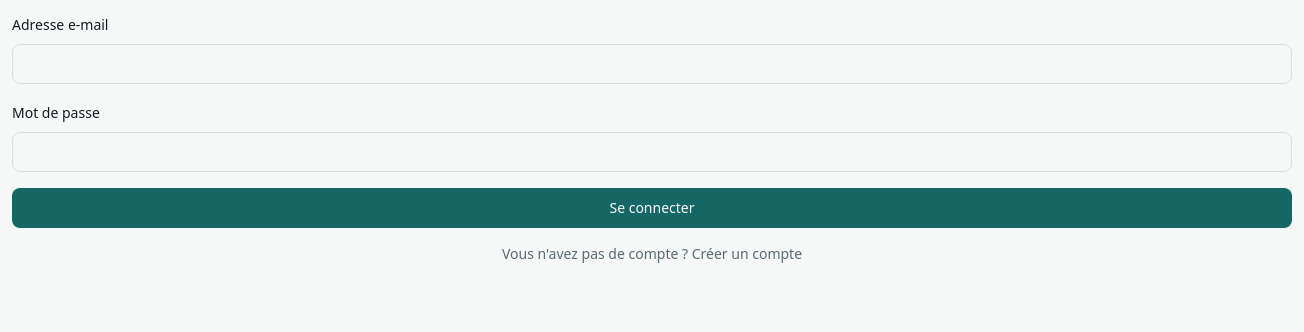
Test: LoginForm › shows a server error message on invalid credentials
The image size is (1304, 332).
Type "test@example.com" into the field labelled "Adresse e-mail".
click(652, 64); type("test@example.com")  # box left=12, top=44, right=1292, bottom=84
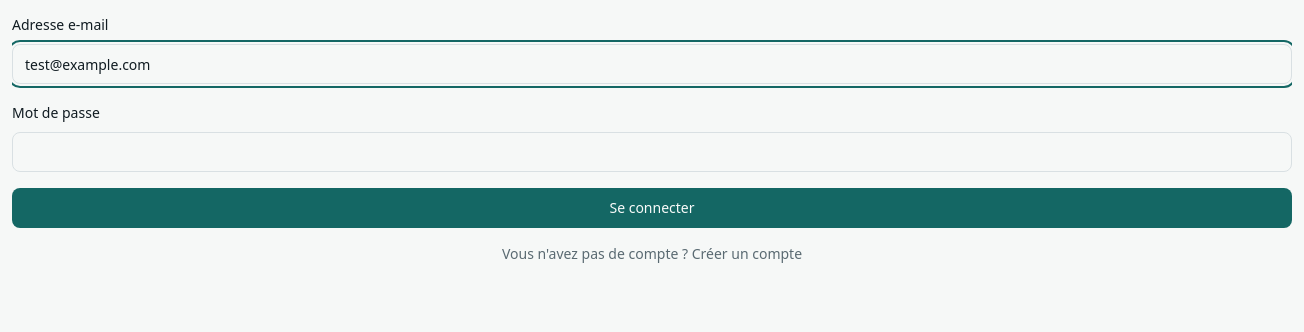
Type "wrongpassword" into the password field labelled "Mot de passe".
click(652, 152); type("wrongpassword")  # box left=12, top=132, right=1292, bottom=172
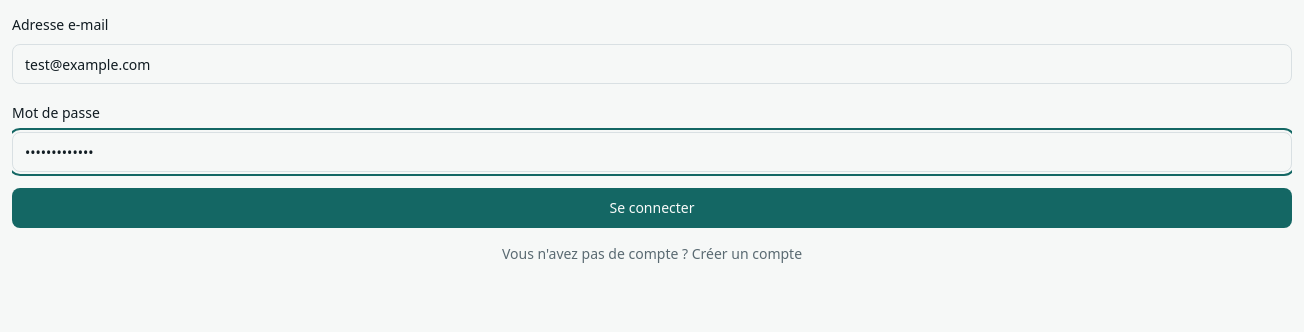
Click the button "Se connecter".
click(652, 208)  # box left=12, top=188, right=1292, bottom=228
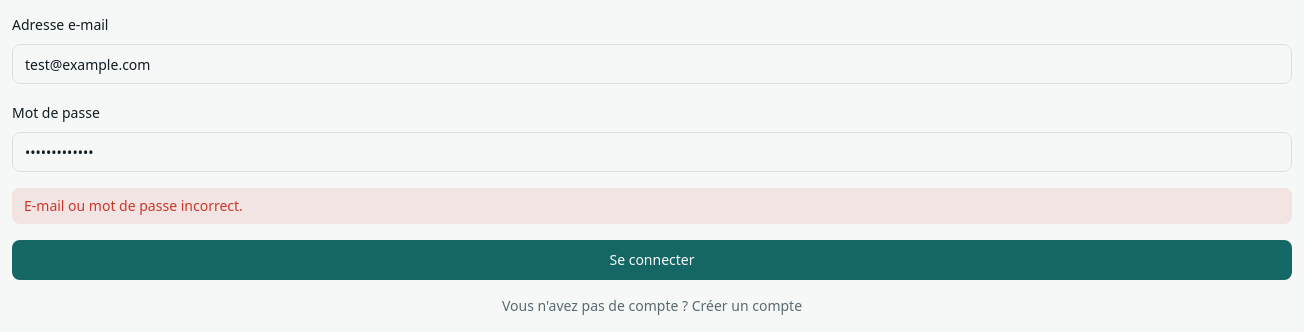
Expected: the message shows "incorrect", left=24, top=196, right=243, bottom=215
